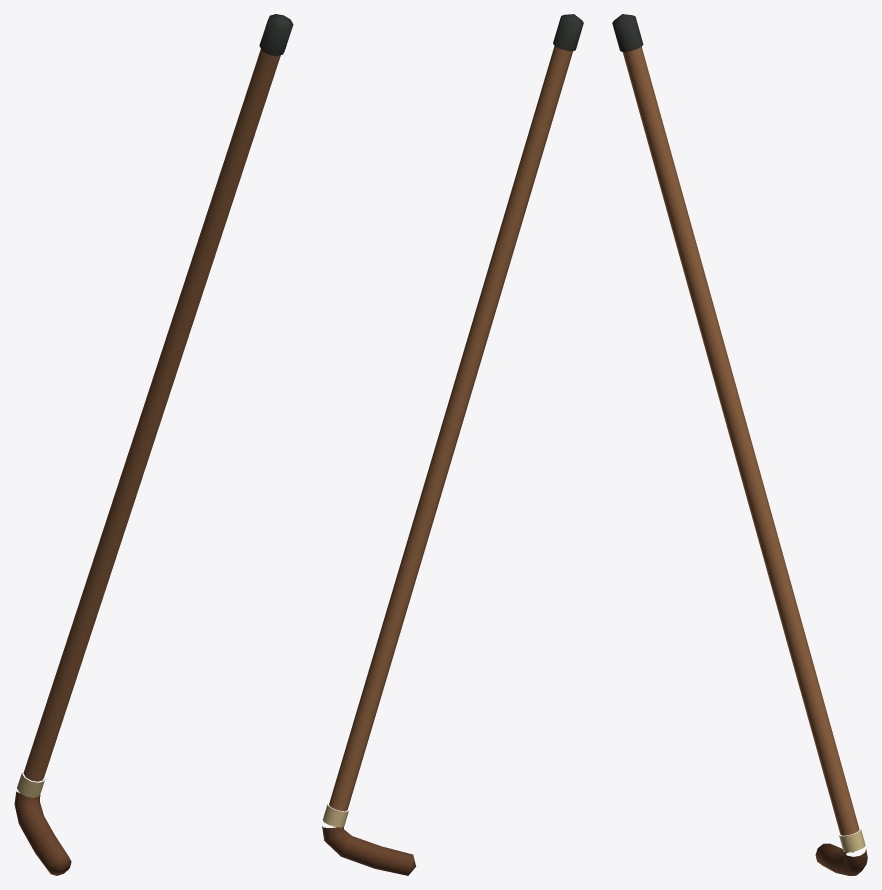
Rendered from old-cane-gilmar-gordo.glb.
The picture shows the model from 3 angles, left to right: view 1: azimuth 90°, elevation 25°; view 2: azimuth 150°, elevation 25°; view 3: azimuth 270°, elevation 25°; orthographic projection. The views are drawn at different scales.
Visible parts, largest first — view 1: Acc_Male_Hand_Cane; view 2: Acc_Male_Hand_Cane; view 3: Acc_Male_Hand_Cane.
Part boxes in pixels (box(x1,y1,x2,y2)): Acc_Male_Hand_Cane: box(14, 14, 293, 875); Acc_Male_Hand_Cane: box(322, 14, 583, 875); Acc_Male_Hand_Cane: box(612, 14, 867, 875).
Size of the model in its own units: 0.193 by 1.02 by 0.2884.
